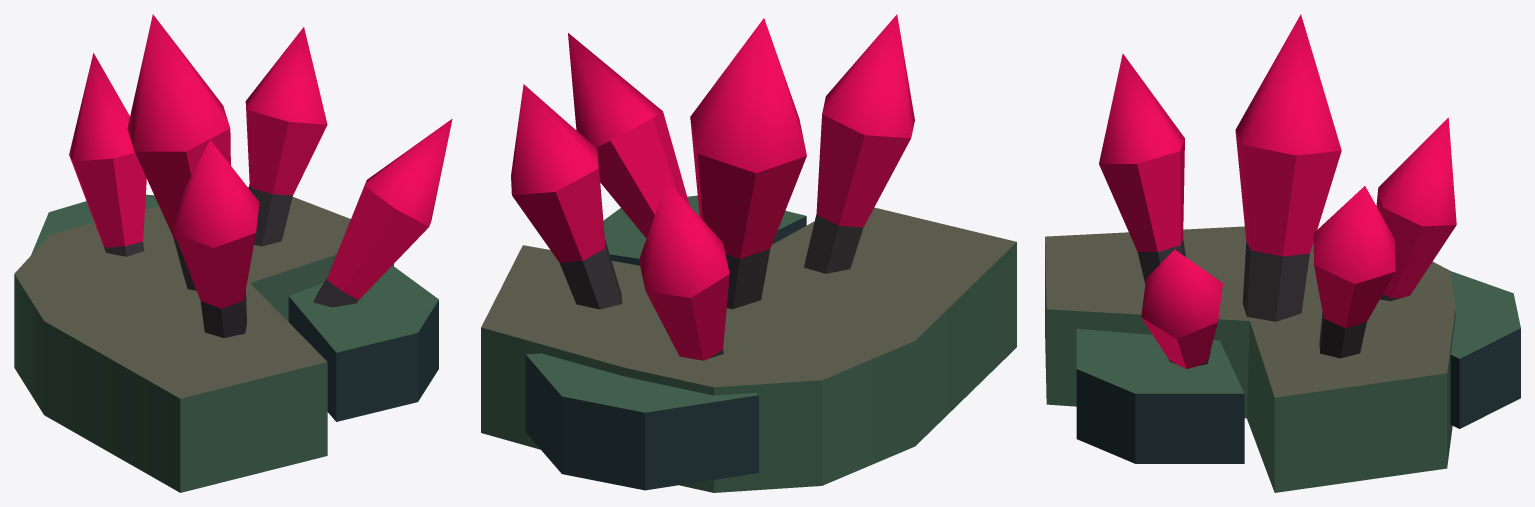
The model's file is шипы.fbx.
3 renders of one model, left to right at view 1: azimuth 30°, elevation 25°; view 2: azimuth 150°, elevation 25°; view 3: azimuth 270°, elevation 25°, orthographic. The views are drawn at different scales.
Visible parts, largest first — view 1: pCylinder12; view 2: pCylinder12; view 3: pCylinder12.
Part boxes in pixels (x1,y1,x2,y2): pCylinder12: (14, 14, 452, 492); pCylinder12: (481, 14, 1016, 492); pCylinder12: (1045, 14, 1520, 492).
Bounding box in the file's own units: 1.74 × 1.68 × 1.98.
